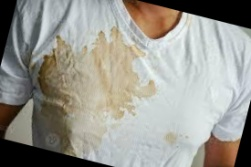coffee: (21, 26, 153, 167), (162, 130, 180, 148)
